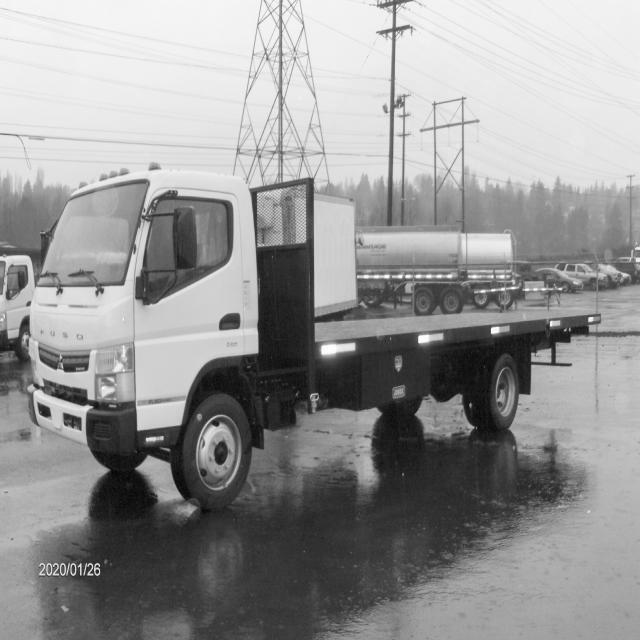truck: (10, 156, 315, 499)
